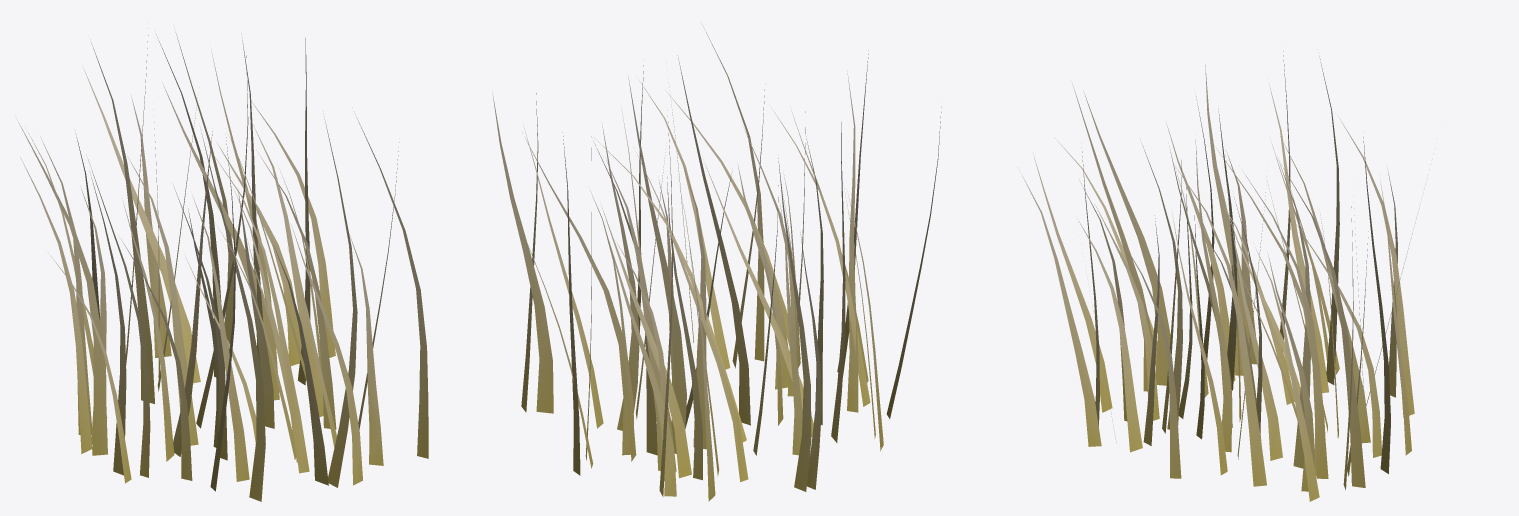
The model's file is mesh-plant-009-frostblade_LOD1.glb.
3 renders of one model, left to right at view 1: azimuth 30°, elevation 25°; view 2: azimuth 150°, elevation 25°; view 3: azimuth 270°, elevation 25°, orthographic. The views are drawn at different scales.
Parts seen in each view (by area): view 1: geometry_0; view 2: geometry_0; view 3: geometry_0.
Boxes of the visible parts, x1,y1,x2,y2 form: geometry_0: (16,28,428,501); geometry_0: (492,22,941,501); geometry_0: (1020,51,1419,501).
Size of the model in its own units: 2.42 by 1.85 by 2.54.
